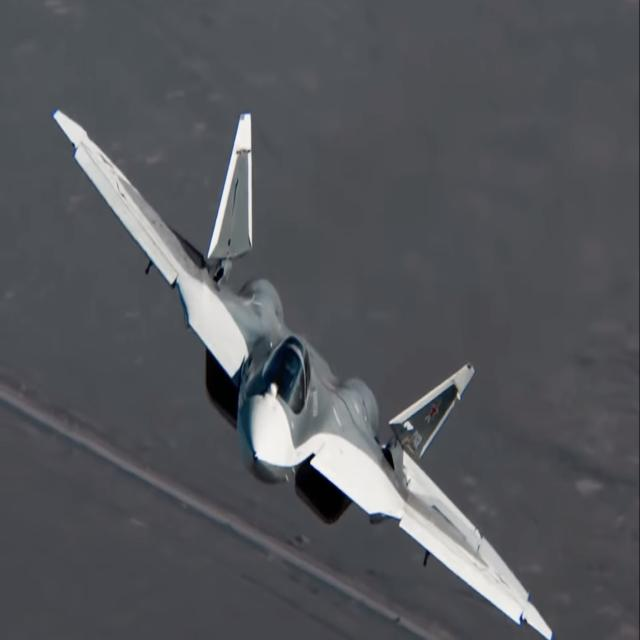MIL_Plane: (52, 107, 552, 640)
